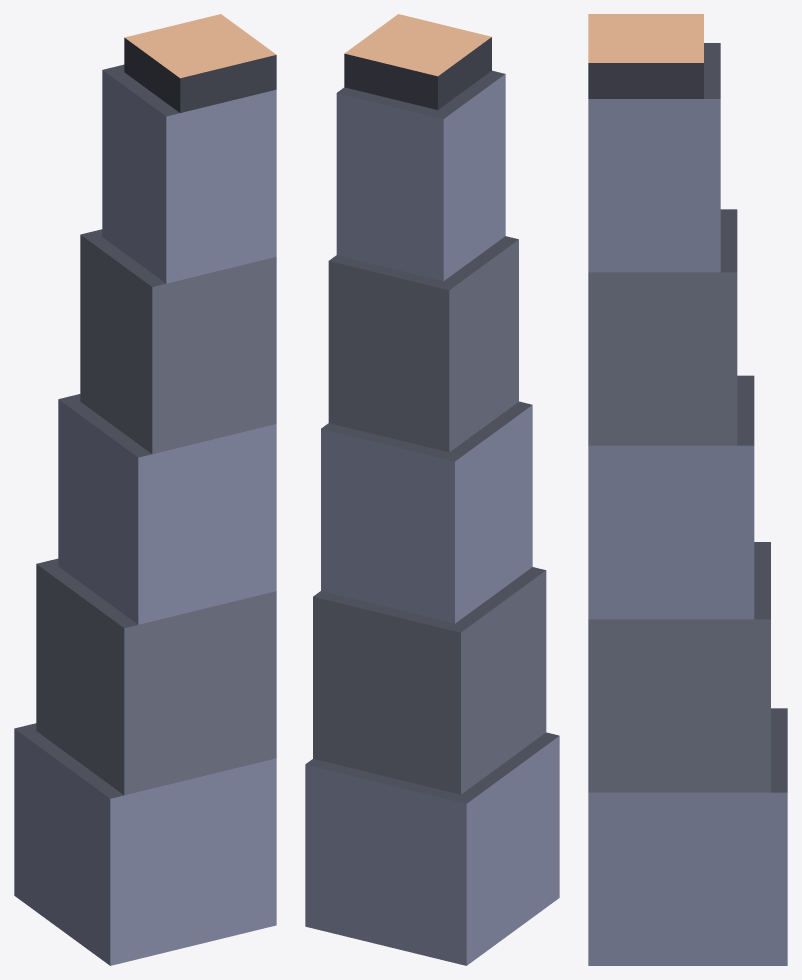
Rendered from mur-soutenement-angle-in.glb.
3 views of the same model, side by side, from view 1: azimuth 30°, elevation 25°; view 2: azimuth 150°, elevation 25°; view 3: azimuth 270°, elevation 25° (orthographic). The views are drawn at different scales.
Visible parts, largest first — view 1: mur-soutenement-angle-in; view 2: mur-soutenement-angle-in; view 3: mur-soutenement-angle-in.
Boxes of the visible parts, left/top/right/bottom form: mur-soutenement-angle-in: left=14, top=14, right=276, bottom=965; mur-soutenement-angle-in: left=305, top=14, right=559, bottom=965; mur-soutenement-angle-in: left=588, top=14, right=787, bottom=965.
Size of the model in its own units: 0.05 by 0.25 by 0.05.
Materials: 1 (1 with a texture image).
